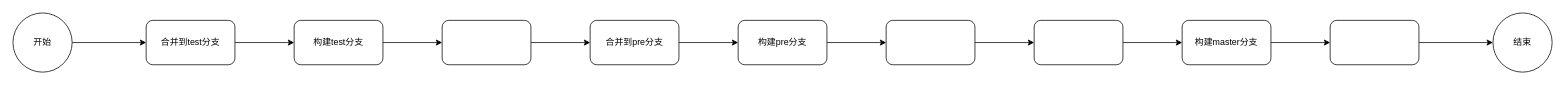
The diagram is 1565 pixels wide and 85 high, and some of its shapes have lost their labels. Here are the shapes that lost their labels. From the top down, the centre of each, then its label:
At point (486, 42): "发布到test环境".
At point (930, 42): "发布pre环境".
At point (1078, 42): "发起CR".
At point (1374, 42): "发布线上环境".
